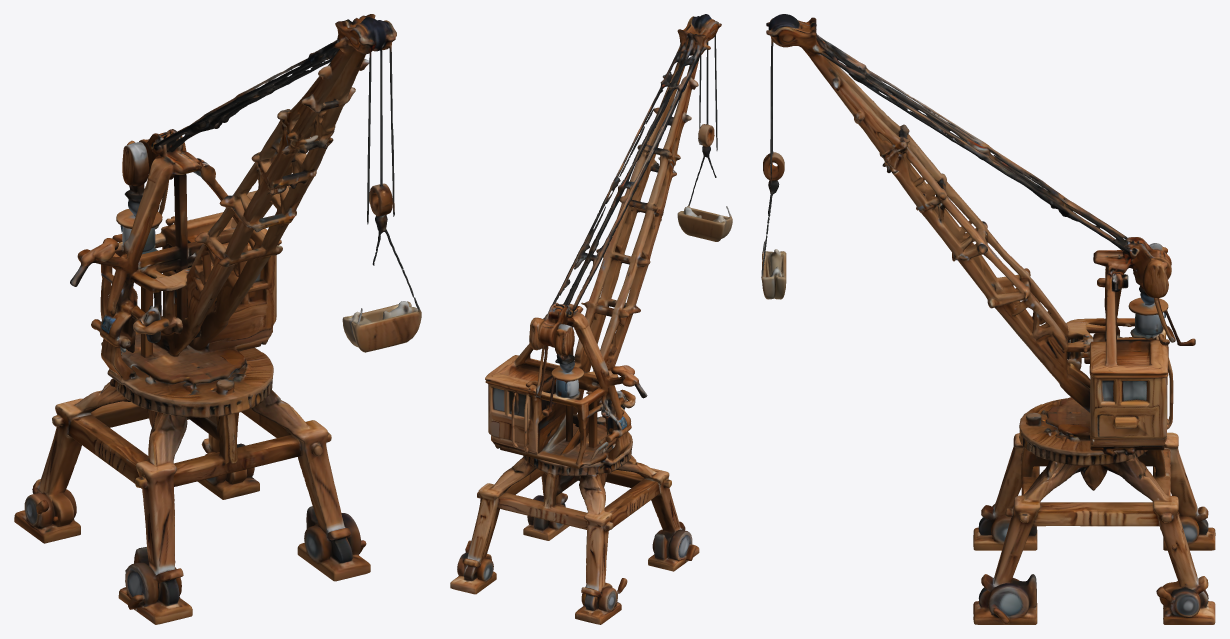
The model's file is prop-harbor-crane.glb.
The picture shows the model from 3 angles, left to right: view 1: azimuth 30°, elevation 25°; view 2: azimuth 150°, elevation 25°; view 3: azimuth 270°, elevation 25°; orthographic projection. The views are drawn at different scales.
Parts seen in each view (by area): view 1: tripo_node_bdfcb69a-b40b-4e5b-8dcc-189cdc0e5eb8; view 2: tripo_node_bdfcb69a-b40b-4e5b-8dcc-189cdc0e5eb8; view 3: tripo_node_bdfcb69a-b40b-4e5b-8dcc-189cdc0e5eb8.
Part boxes in pixels (bbox=[...]): tripo_node_bdfcb69a-b40b-4e5b-8dcc-189cdc0e5eb8: bbox=[14, 14, 421, 624]; tripo_node_bdfcb69a-b40b-4e5b-8dcc-189cdc0e5eb8: bbox=[450, 14, 732, 624]; tripo_node_bdfcb69a-b40b-4e5b-8dcc-189cdc0e5eb8: bbox=[761, 14, 1215, 624].
Size of the model in its own units: 2.92 by 8 by 5.83.
1 material, 1 textured.
